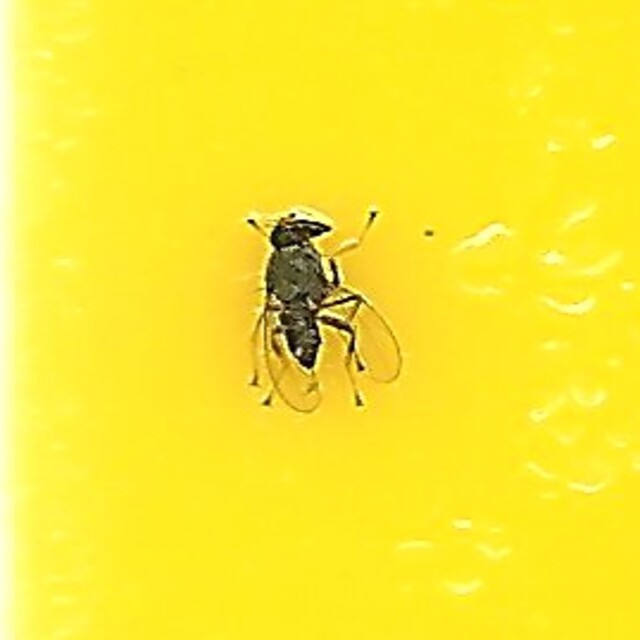Brachycera: (238, 207, 402, 433)
